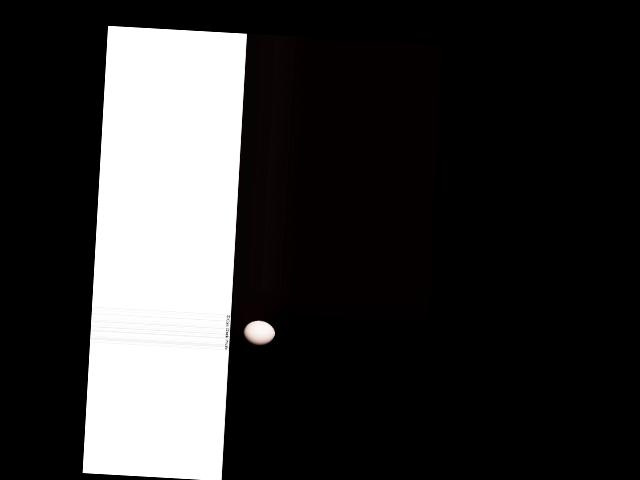egg: (242, 320, 275, 346)
